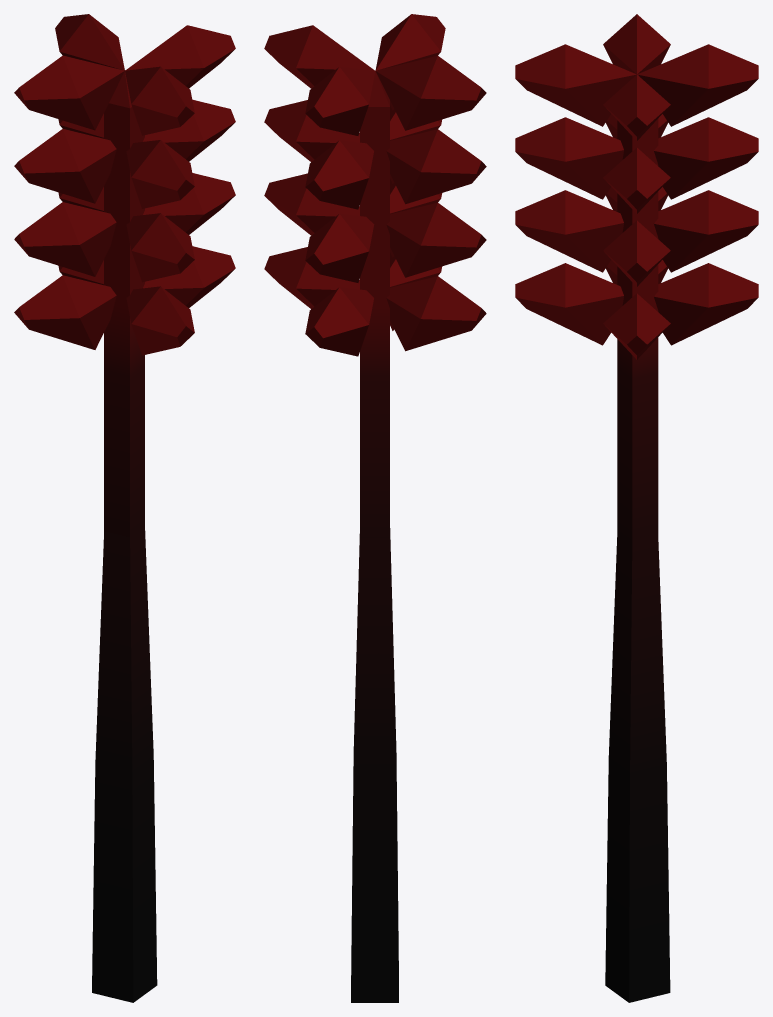
Rendered from SM_Lupin.fbx.
3 renders of one model, left to right at view 1: azimuth 30°, elevation 25°; view 2: azimuth 150°, elevation 25°; view 3: azimuth 270°, elevation 25°, orthographic.
Visible parts, largest first — view 1: SM_Lupin; view 2: SM_Lupin; view 3: SM_Lupin.
Part boxes in pixels (bbox=[...]): SM_Lupin: bbox=[14, 14, 235, 1002]; SM_Lupin: bbox=[264, 14, 486, 1002]; SM_Lupin: bbox=[515, 14, 758, 1002].
Bounding box in the file's own units: 10.19 × 43.69 × 10.19.
